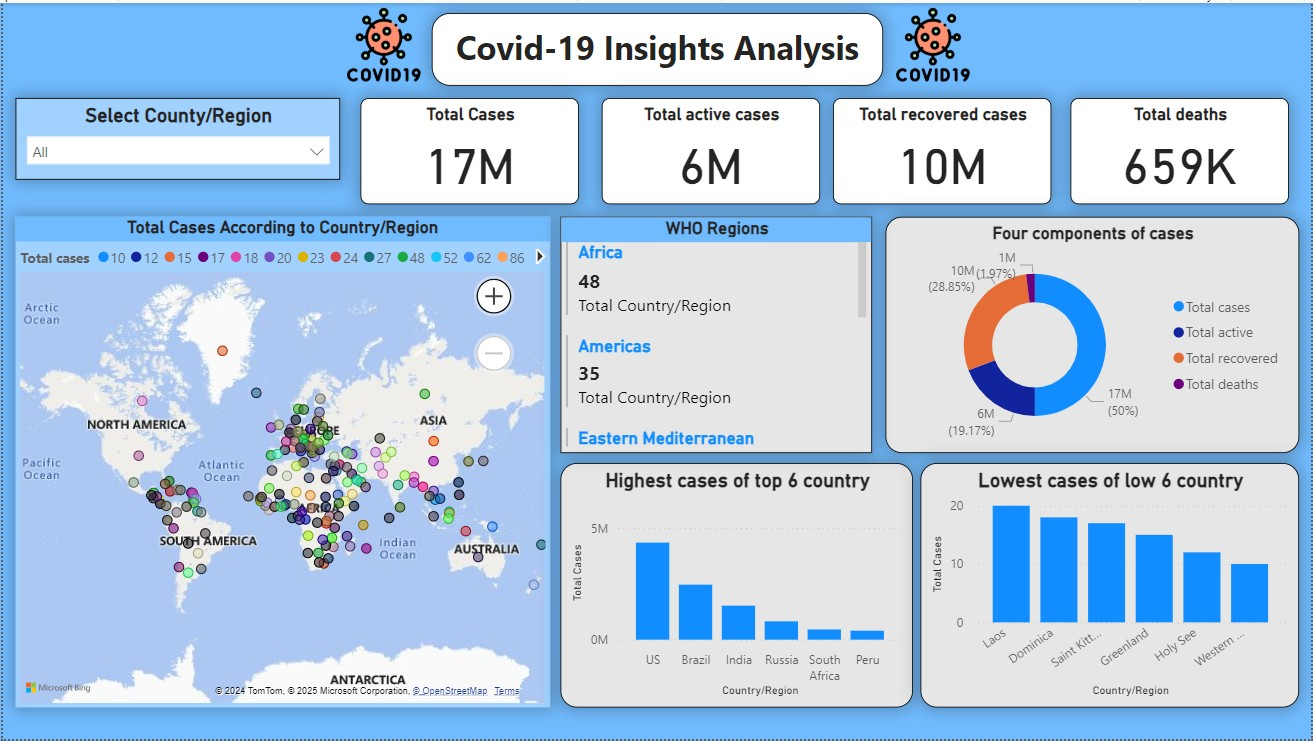

This screenshot's page, from the dashboard's own definition file:
{"tool":"powerbi","page":{"name":"Dashboard","canvas":[1280,720],"ordinal":0},"visuals":[{"type":"textbox","box":[419.1,10,441.9,71.3],"z":0},{"type":"slicer","title":"Select County/Region","fields":{"Values":["country_wise_latest.Country/Region"]},"box":[12.8,92.7,317.9,79.8],"z":1000},{"type":"card","title":"Total Cases","fields":{"Values":["Sum(country_wise_latest.Total cases)"]},"box":[349.2,92.7,213.8,104.1],"z":2000},{"type":"map","title":"Total Cases According to Country/Region","fields":{"Category":["country_wise_latest.Country/Region"],"Series":["country_wise_latest.Total cases"]},"box":[12.8,209.5,523.1,480.4],"z":3000},{"type":"card","title":"Total recovered cases","fields":{"Values":["Sum(country_wise_latest.Total recovered)"]},"box":[812.5,92.7,213.8,104.1],"z":4000},{"type":"card","title":"Total deaths","fields":{"Values":["Sum(country_wise_latest.Total deaths)"]},"box":[1044.8,92.7,213.8,104.1],"z":5000},{"type":"card","title":"Total active cases","fields":{"Values":["Sum(country_wise_latest.Total active)"]},"box":[585.8,92.7,213.8,104.1],"z":6000},{"type":"columnChart","title":"Highest cases of top 6 country","fields":{"Y":["Sum(country_wise_latest.Total cases)"],"Category":["country_wise_latest.Country/Region"]},"box":[545.9,450.4,344.9,239.5],"z":7000},{"type":"donutChart","title":"Four components of cases","fields":{"Y":["Sum(country_wise_latest.Total cases)","Sum(country_wise_latest.Total active)","Sum(country_wise_latest.Total recovered)","Sum(country_wise_latest.Total deaths)"]},"box":[863.3,209.1,404.8,231.1],"z":8000},{"type":"columnChart","title":"Lowest cases of low 6 country","fields":{"Y":["Sum(country_wise_latest.Total cases)"],"Category":["country_wise_latest.Country/Region"]},"box":[898,450.4,370.6,239.5],"z":9000},{"type":"multiRowCard","title":"WHO Regions","fields":{"Values":["country_wise_latest.WHO Region","country_wise_latest.Country/Region"]},"box":[545.9,209.5,305,230.9],"z":10000},{"type":"image","box":[330.2,0,84.4,81.9],"z":11000},{"type":"image","box":[863.3,0,92.9,81.9],"z":12000}]}

Visuals, with their boxes in screenshot pixels (x1, y1, x2, y2), scaled from the page's 1280x720 canvas onto the 1313x741 screenshot:
textbox: [x1=430, y1=10, x2=883, y2=84]
"Select County/Region" slicer: [x1=13, y1=95, x2=339, y2=178]
"Total Cases" card: [x1=358, y1=95, x2=578, y2=203]
"Total Cases According to Country/Region" map: [x1=13, y1=216, x2=550, y2=710]
"Total recovered cases" card: [x1=833, y1=95, x2=1053, y2=203]
"Total deaths" card: [x1=1072, y1=95, x2=1291, y2=203]
"Total active cases" card: [x1=601, y1=95, x2=820, y2=203]
"Highest cases of top 6 country" columnChart: [x1=560, y1=464, x2=914, y2=710]
"Four components of cases" donutChart: [x1=886, y1=215, x2=1301, y2=453]
"Lowest cases of low 6 country" columnChart: [x1=921, y1=464, x2=1301, y2=710]
"WHO Regions" multiRowCard: [x1=560, y1=216, x2=873, y2=453]
image: [x1=339, y1=0, x2=425, y2=84]
image: [x1=886, y1=0, x2=981, y2=84]
